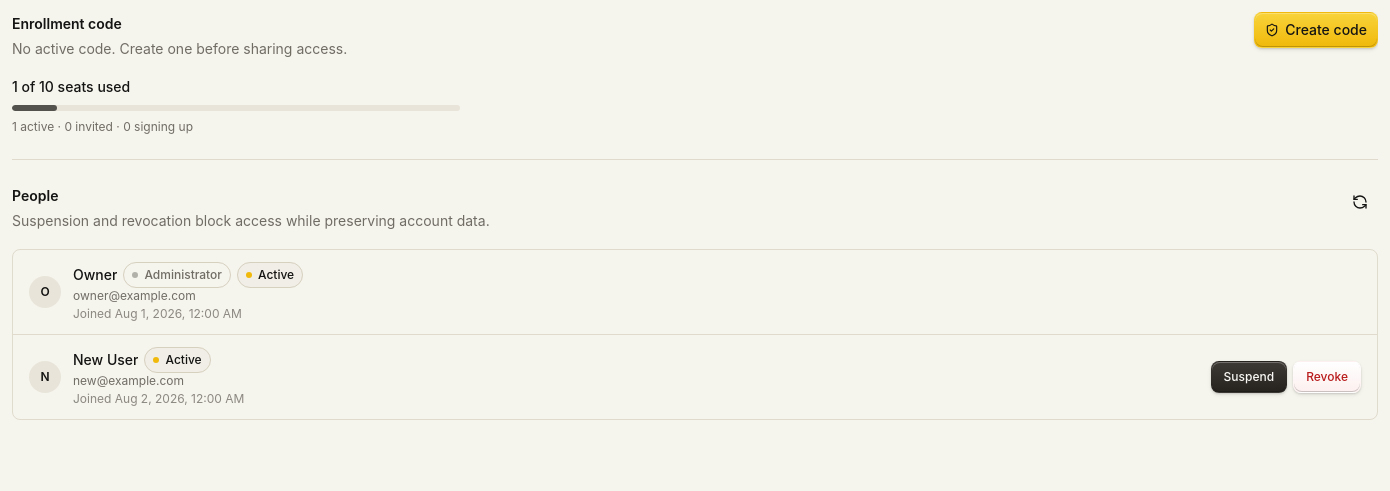
Test case: AdminPeopleAccessCard › releases request-time protection when code creation is canceled
This screenshot has width=1390, height=491.
Click the button "Create code" at (1316, 30), box 1254,12 -> 1378,48
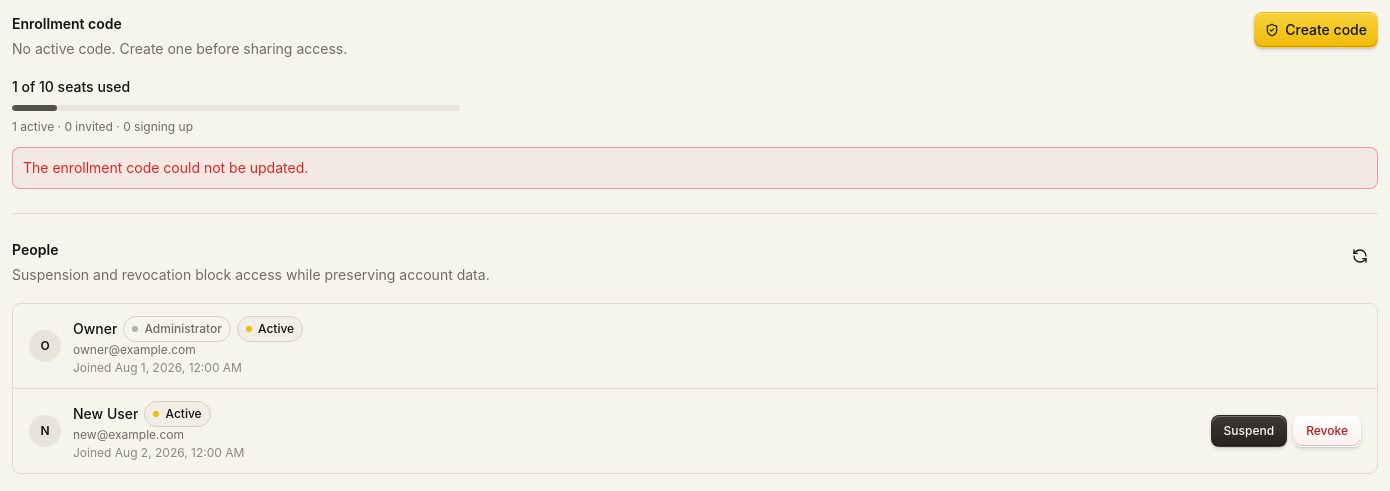
Result: the message reads "The enrollment code could not be updated." at 23,159 -> 308,176
